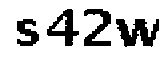2: (83, 6, 113, 49)
4: (43, 6, 79, 48)
s: (12, 18, 39, 48)
w: (114, 13, 160, 51)
